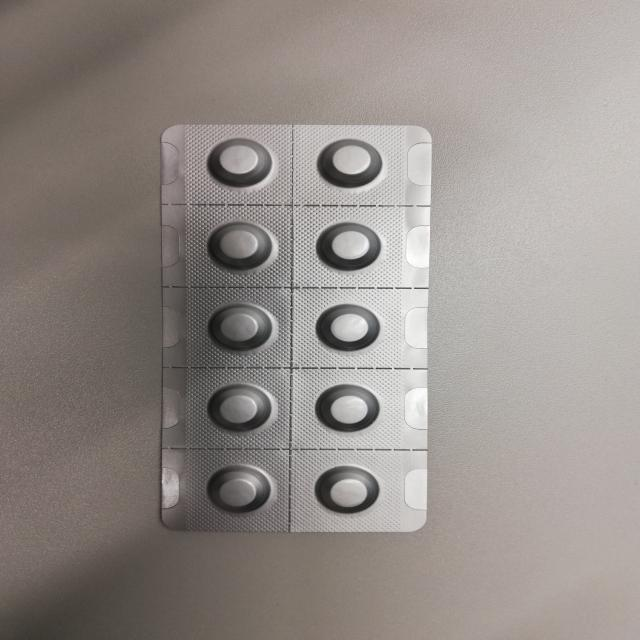Pill: (304, 381, 398, 443), (194, 297, 280, 361), (304, 132, 389, 194), (307, 297, 389, 361), (202, 128, 278, 197), (191, 218, 283, 275), (195, 378, 274, 442), (306, 462, 392, 520), (302, 217, 385, 275), (195, 464, 272, 522)
